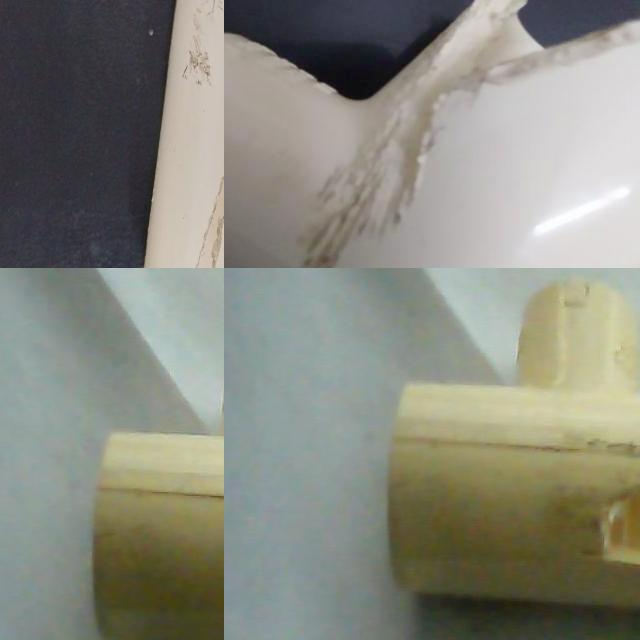Defective: (471, 0, 640, 90), (40, 134, 203, 218), (364, 91, 440, 218), (107, 8, 217, 76), (438, 38, 485, 134), (601, 485, 640, 569)
T Joint: (388, 279, 640, 615), (0, 0, 217, 258), (91, 386, 224, 640)
